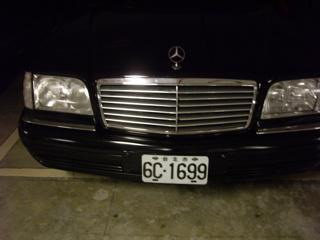plate: (140, 153, 210, 186)
